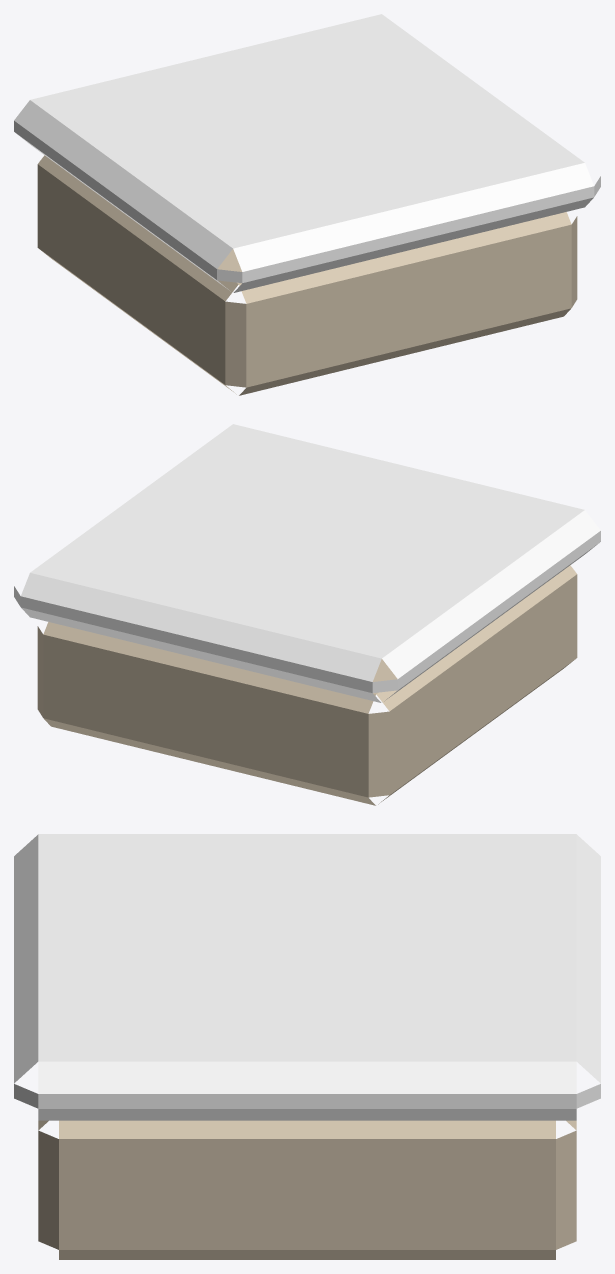
Rendered from tile.glb.
3 views of the same model, one above another, from view 1: azimuth 30°, elevation 25°; view 2: azimuth 150°, elevation 25°; view 3: azimuth 270°, elevation 25° (orthographic). The views are drawn at different scales.
Visible parts, largest first — view 1: tile; view 2: tile; view 3: tile.
Part boxes in pixels (box(x1,y1,x2,y2)): tile: box(14, 14, 600, 395); tile: box(14, 424, 600, 805); tile: box(14, 834, 600, 1259).
Size of the model in its own units: 1.44 by 0.56 by 1.44.
